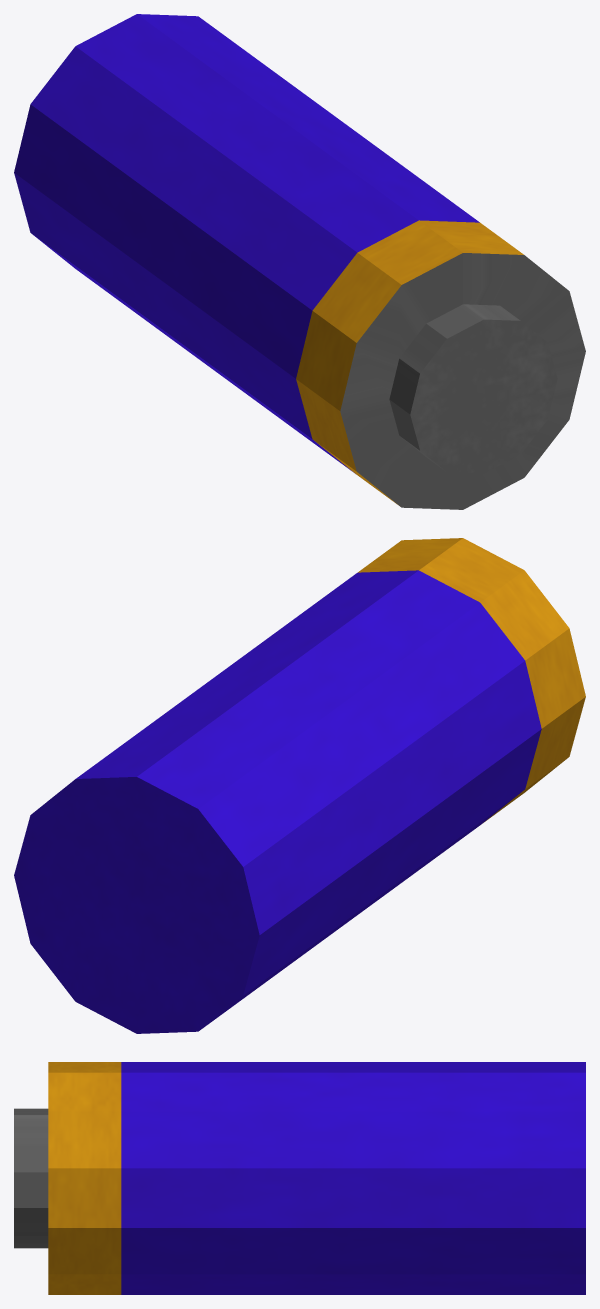
Rendered from mod_item_battery.fbx.
The picture shows the model from 3 angles, top to bottom: view 1: azimuth 30°, elevation 25°; view 2: azimuth 150°, elevation 25°; view 3: azimuth 270°, elevation 25°; orthographic projection. The views are drawn at different scales.
Parts seen in each view (by area): view 1: mesh_item_battery; view 2: mesh_item_battery; view 3: mesh_item_battery.
Boxes of the visible parts, <box> form: mesh_item_battery: <box>14,14,585,509</box>; mesh_item_battery: <box>14,538,585,1033</box>; mesh_item_battery: <box>14,1062,585,1294</box>.
Size of the model in its own units: 200 by 200 by 489.
